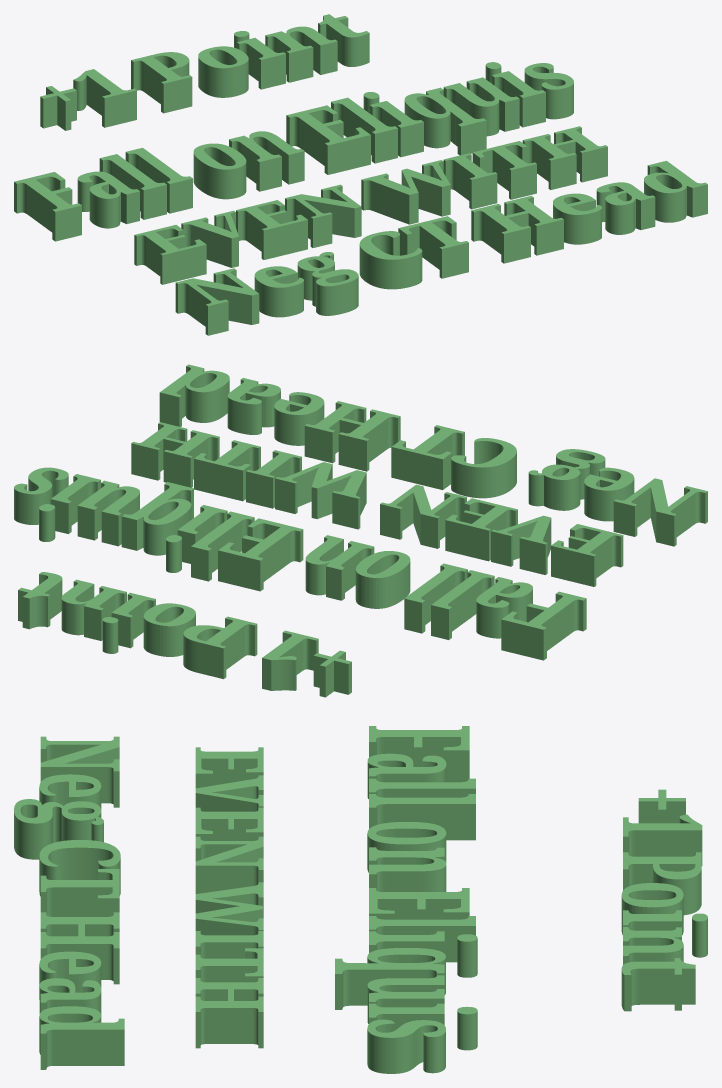
Rendered from poseli.gltf.
3 views of the same model, one above another, from view 1: azimuth 30°, elevation 25°; view 2: azimuth 150°, elevation 25°; view 3: azimuth 270°, elevation 25° (orthographic). The views are drawn at different scales.
Visible parts, largest first — view 1: Mesh_Mesh_head_geo001_lambert2SG001; view 2: Mesh_Mesh_head_geo001_lambert2SG001; view 3: Mesh_Mesh_head_geo001_lambert2SG001.
Boxes of the visible parts, box(x1,y1,x2,y2) form: Mesh_Mesh_head_geo001_lambert2SG001: box(14, 14, 707, 335); Mesh_Mesh_head_geo001_lambert2SG001: box(14, 364, 707, 697); Mesh_Mesh_head_geo001_lambert2SG001: box(14, 726, 707, 1073).
Size of the model in its own units: 185 by 10 by 174.
